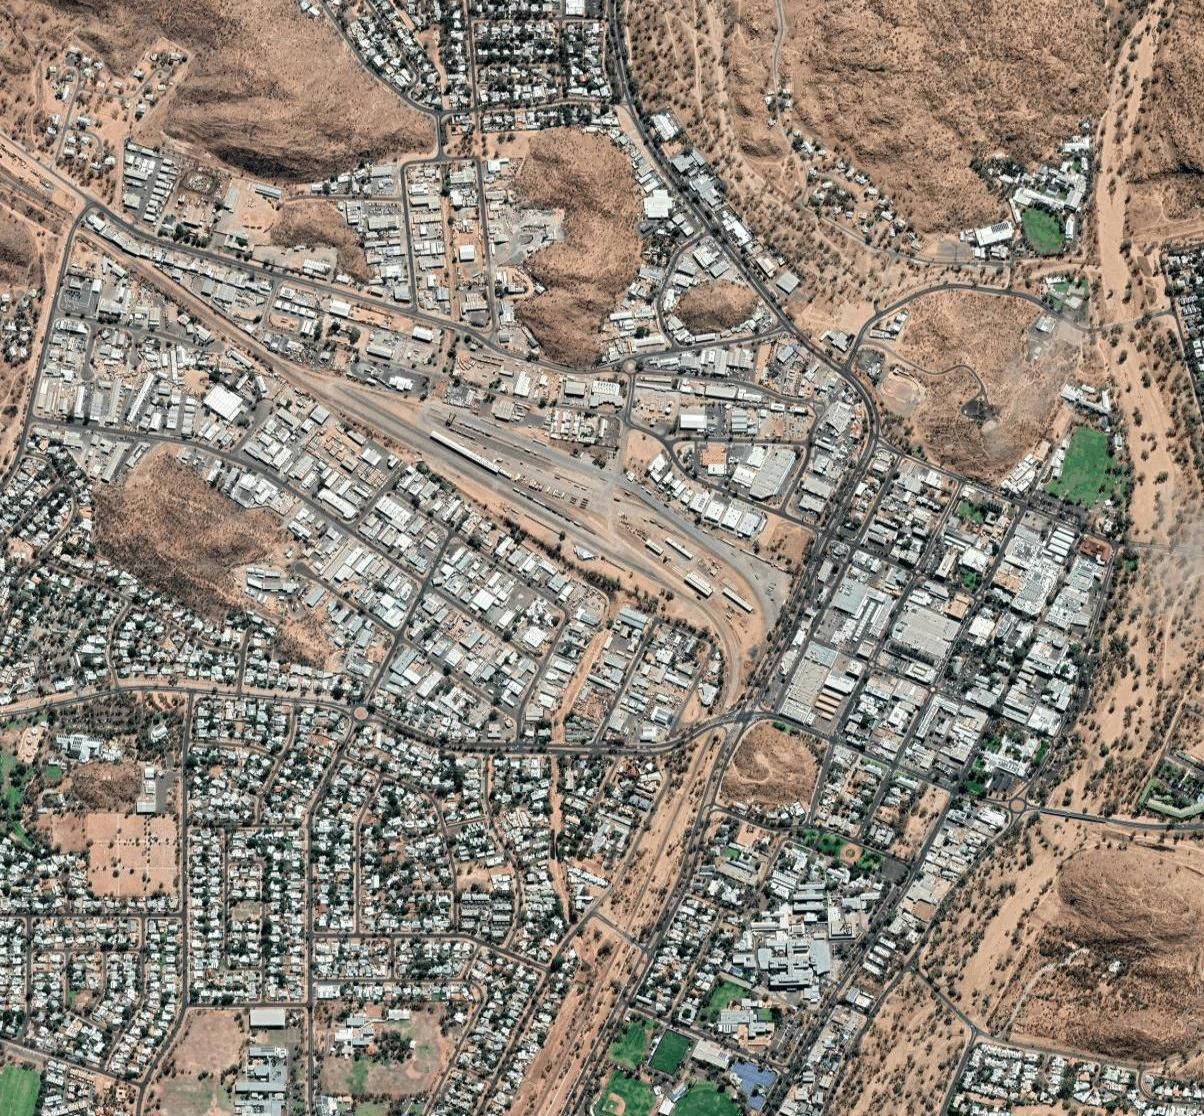train_station: (421, 398, 669, 579)
